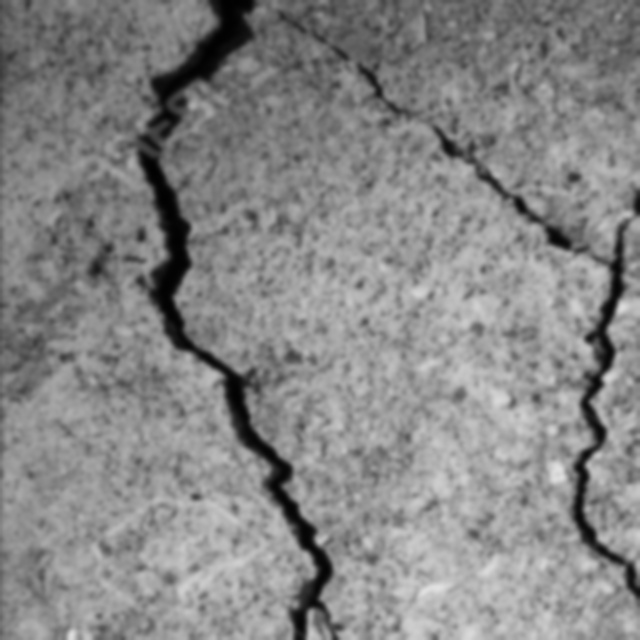SurfaceCrack: (100, 0, 382, 640), (543, 247, 640, 638)
